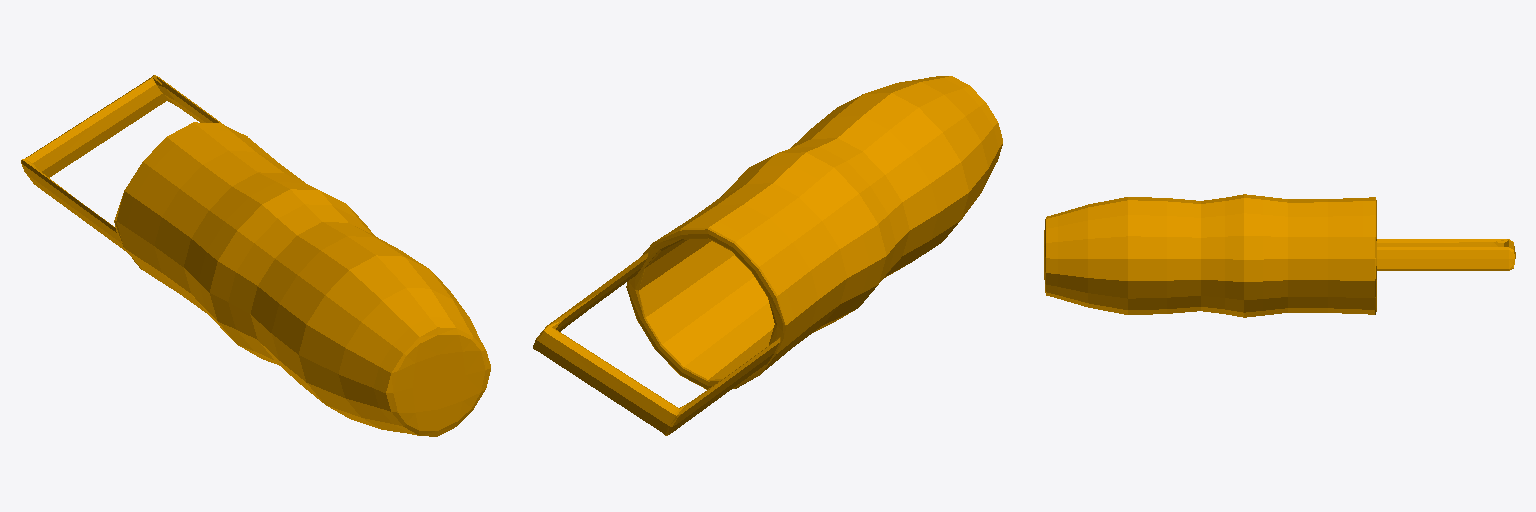
robot.urdf — 293:
<?xml version="1.0" ?>
<robot name="293">
  <link name="body">
    <visual>
      <geometry>
        <mesh filename="../shapes/293.obj"/>
      </geometry>
    </visual>
    <collision>
      <geometry>
        <mesh filename="../shapes/293.obj"/>
      </geometry>
    </collision>
  </link>
</robot>

--- What the picture shows (computed from the rendered views, not written in the file) ---
Views: 3 orthographic renders of the robot side by side, from view 1: azimuth 30°, elevation 25°; view 2: azimuth 150°, elevation 25°; view 3: azimuth 270°, elevation 25°.
Model 293 with 1 links and 0 joints (none), rooted at body, posed every joint at zero.
Visible links, largest first — view 1: body; view 2: body; view 3: body.
Boxes of the visible links, x1=… form: body: x1=21, y1=75, x2=490, y2=436; body: x1=533, y1=76, x2=1002, y2=435; body: x1=1044, y1=194, x2=1515, y2=317.
Bounding box of the posed robot: 2.97 × 10.86 × 2.95 m (x, y, z).
Meshes: 1 distinct files referenced, 1 mesh visuals loaded (1 OBJ).